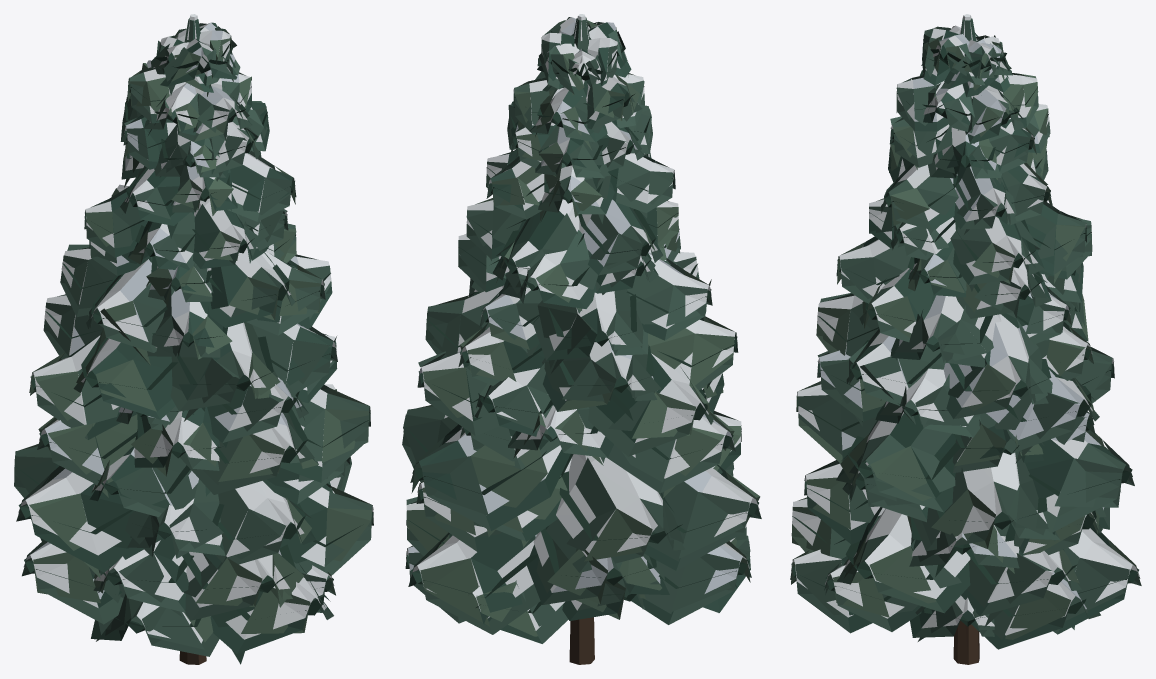
The model's file is pine-small-snow.glb.
3 views of the same model, side by side, from view 1: azimuth 30°, elevation 25°; view 2: azimuth 150°, elevation 25°; view 3: azimuth 270°, elevation 25° (orthographic).
Visible parts, largest first — view 1: pine-small-snow-needles, pine-small-snow; view 2: pine-small-snow-needles, pine-small-snow; view 3: pine-small-snow-needles, pine-small-snow.
Part boxes in pixels (x1,y1,x2,y2): pine-small-snow-needles: (14,22,373,664); pine-small-snow: (179,14,206,664); pine-small-snow-needles: (402,17,761,643); pine-small-snow: (569,14,594,664); pine-small-snow-needles: (790,25,1141,649); pine-small-snow: (953,14,979,664).
Bounding box in the file's own units: 2.15 × 4.02 × 1.99.
